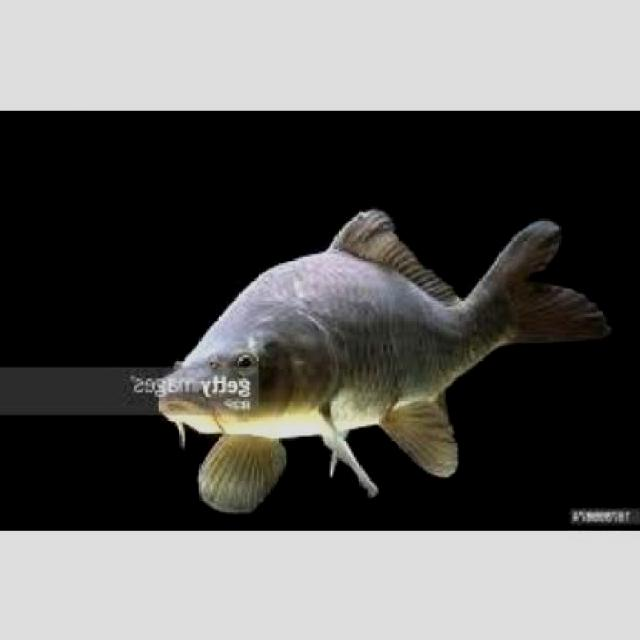ikan-mas: (150, 205, 598, 478)
